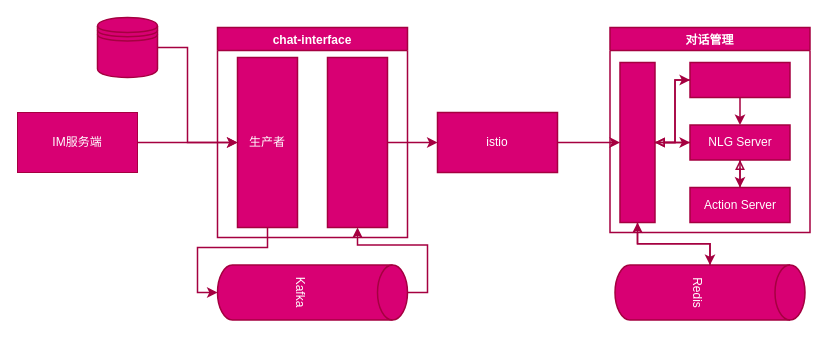
This 828x338 diagram has some shape labels left out. The centre of each missing label's shape, as x and y in pixels:
IM机器人配置: point (127, 47)
NLU Server: point (739, 79)
Session Control: point (637, 142)
消费者: point (357, 142)
